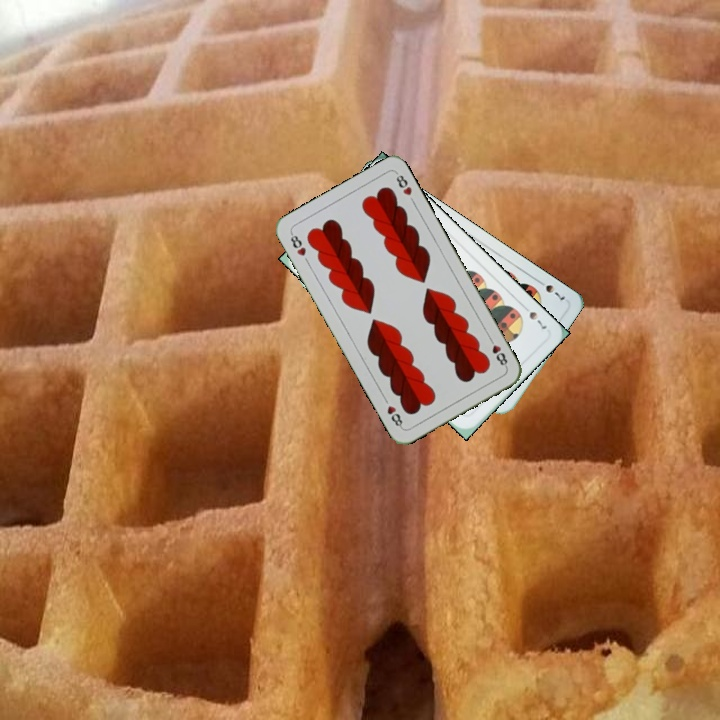H8: (485, 333, 510, 370), (286, 229, 309, 259)
S7: (517, 300, 549, 332), (533, 275, 568, 303)
